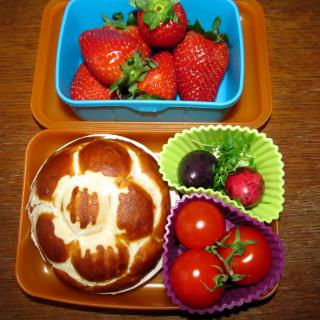Strawberry: (172, 26, 231, 104), (94, 10, 154, 66), (126, 46, 177, 100), (133, 0, 189, 47), (66, 67, 134, 103)
